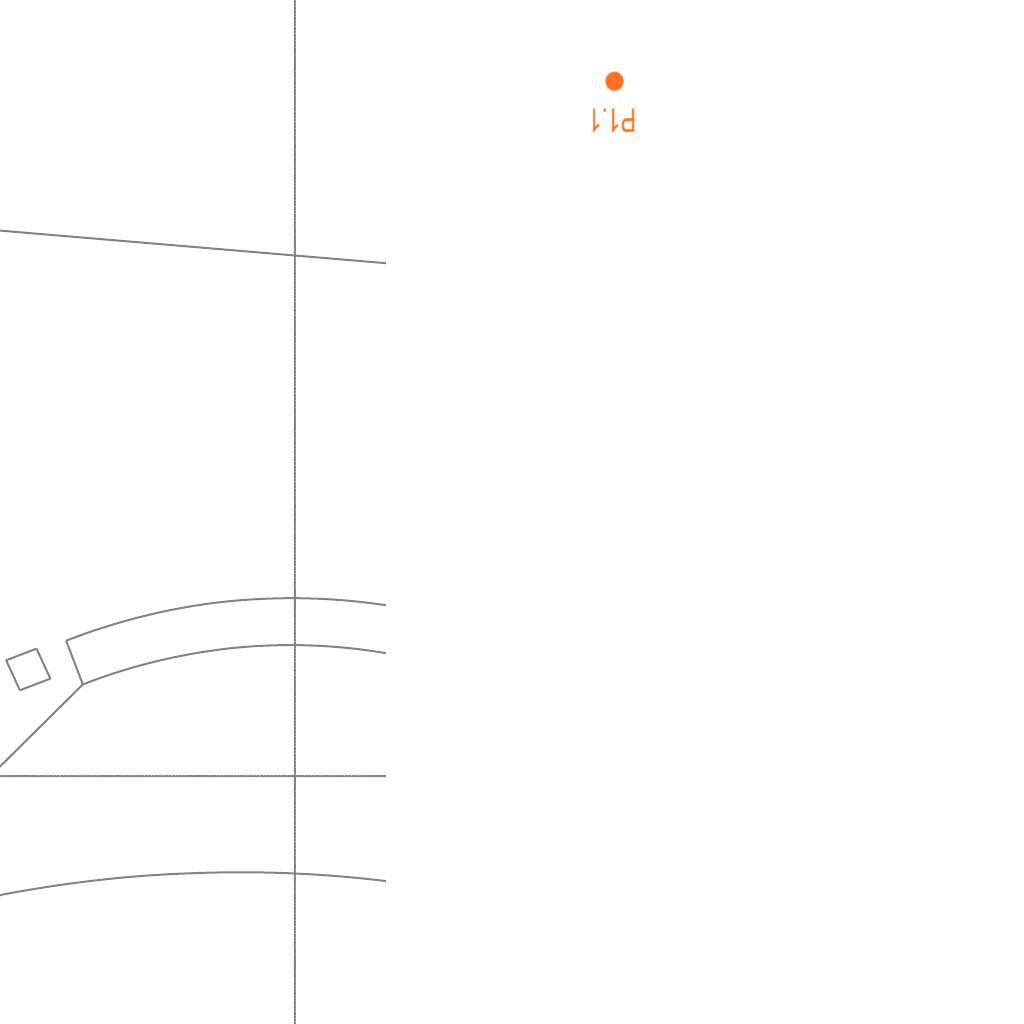Downlight_LED_Einbauleuchten_Flur_2: (590, 70, 636, 134)
